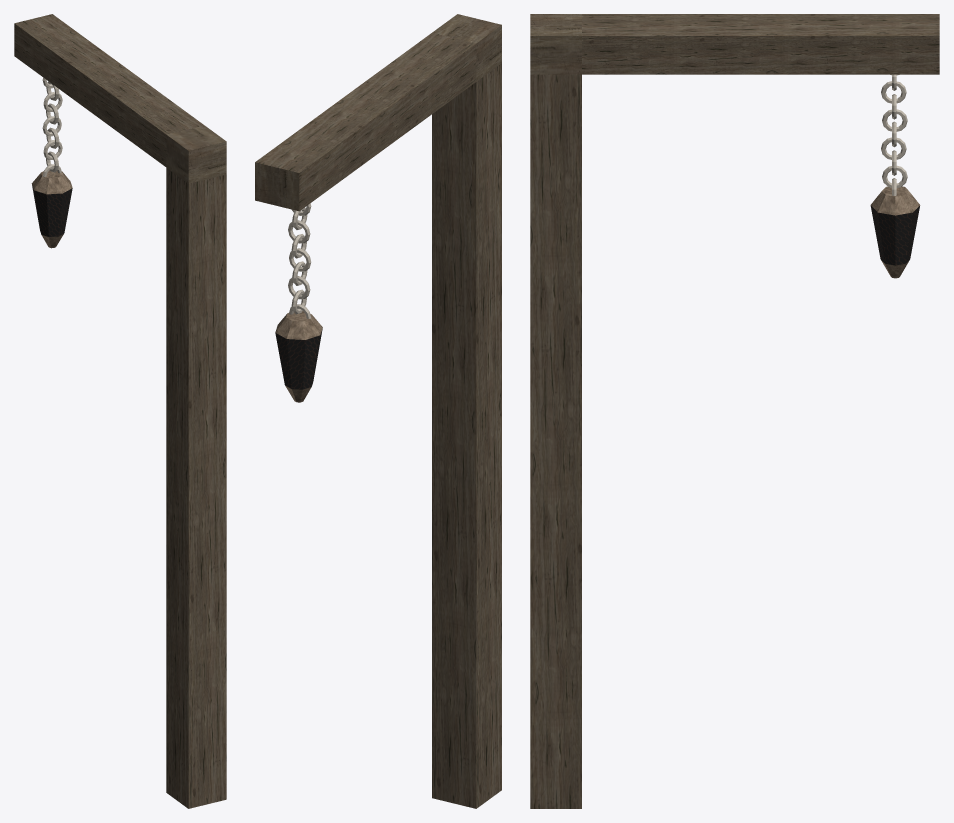
File: PosteLuz.fbx
The picture shows the model from 3 angles, left to right: view 1: azimuth 30°, elevation 25°; view 2: azimuth 150°, elevation 25°; view 3: azimuth 270°, elevation 25°; orthographic projection. The views are drawn at different scales.
Parts seen in each view (by area): view 1: PosteDeLuz, Corrente_PosteDeLuz; view 2: PosteDeLuz, Corrente_PosteDeLuz; view 3: PosteDeLuz, Corrente_PosteDeLuz.
Boxes of the visible parts, x1,y1,x2,y2 form: PosteDeLuz: [14, 14, 226, 808]; Corrente_PosteDeLuz: [42, 78, 62, 176]; PosteDeLuz: [255, 14, 501, 808]; Corrente_PosteDeLuz: [288, 203, 311, 318]; PosteDeLuz: [530, 14, 939, 808]; Corrente_PosteDeLuz: [881, 74, 907, 195].
Bounding box in the file's own units: 25 × 412 × 198.
Materials: 4 (4 with a texture image).
